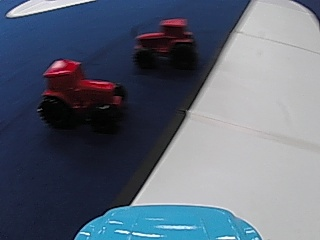tractor: (36, 57, 123, 126), (134, 15, 197, 71)
